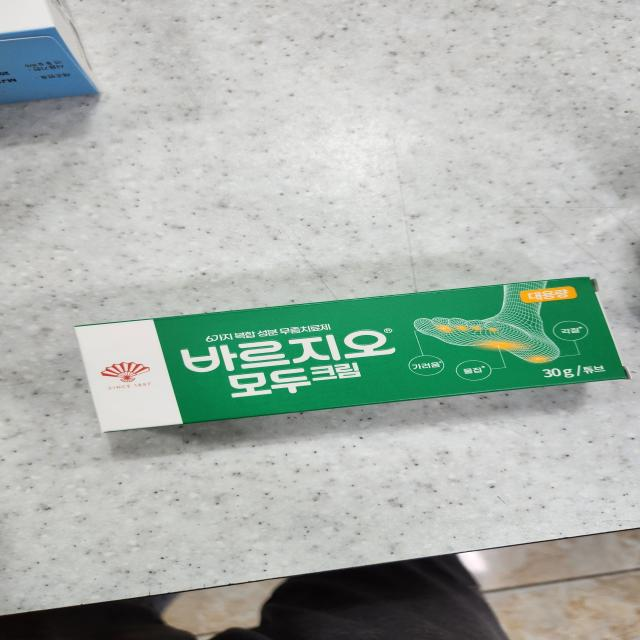box: (77, 277, 631, 431), (0, 2, 99, 103)
